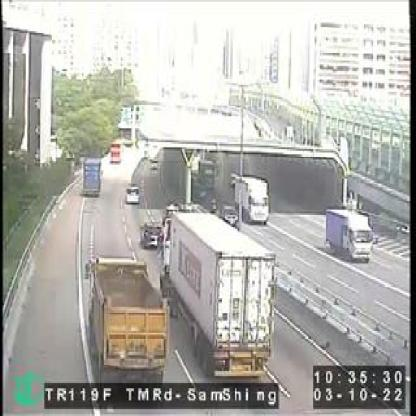Bus: (108, 139, 123, 161)
Car: (141, 222, 165, 248), (126, 184, 139, 203)
Truck: (162, 211, 271, 382), (82, 255, 165, 386), (231, 176, 269, 224), (81, 158, 100, 198)
